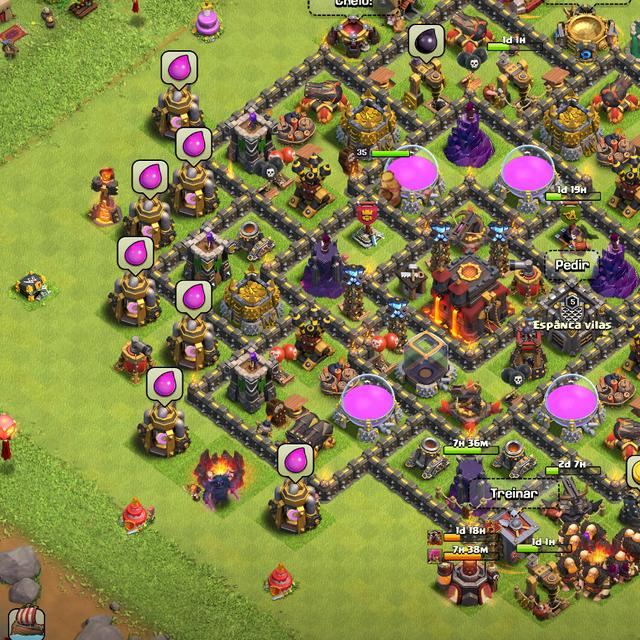Elixir: (162, 51, 198, 93), (176, 125, 211, 168), (279, 444, 316, 484), (148, 366, 182, 406), (119, 235, 152, 276), (134, 160, 168, 198), (178, 280, 211, 319)
ElixirNegro: (410, 22, 444, 66)
coin: (626, 454, 640, 494)
